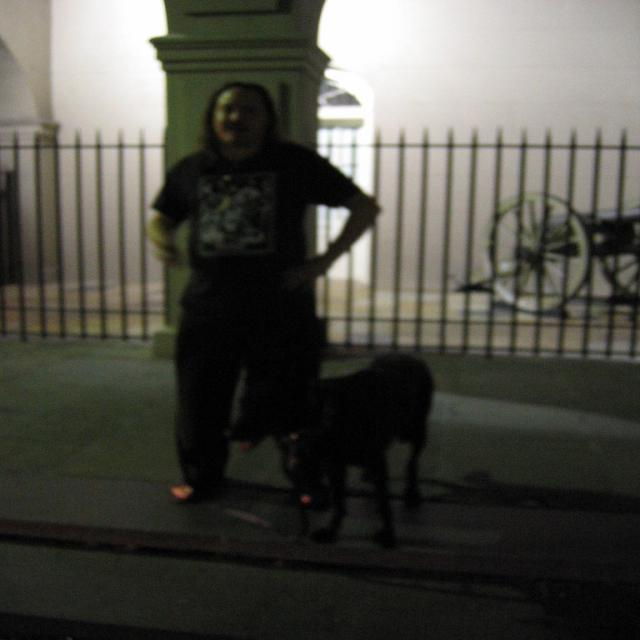Dog: (228, 345, 458, 541)
